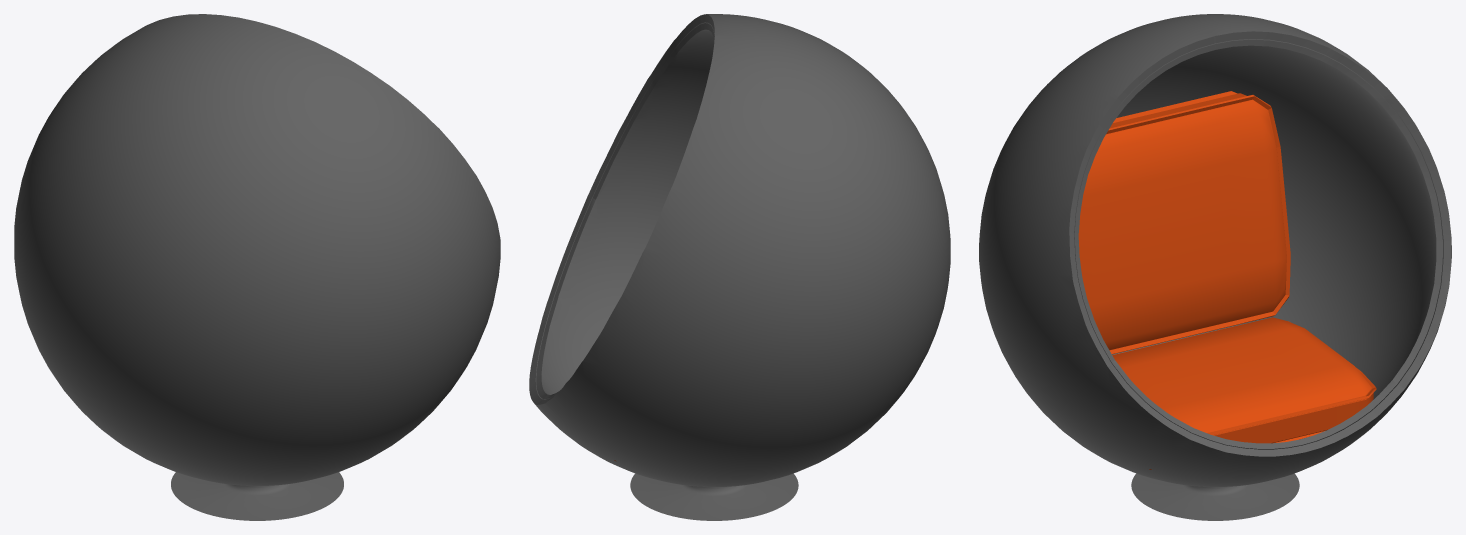
File: Silla2.obj
3 views of the same model, side by side, from view 1: azimuth 30°, elevation 25°; view 2: azimuth 150°, elevation 25°; view 3: azimuth 270°, elevation 25° (orthographic). The views are drawn at different scales.
Visible parts, largest first — view 1: bottom_cushion_Mesh.441_Material_#25; view 2: bottom_cushion_Mesh.441_Material_#25, bottom_cushion_Mesh.441_Material_#29; view 3: bottom_cushion_Mesh.441_Fabric_Blue, bottom_cushion_Mesh.441_Material_#25, bottom_cushion_Mesh.441_Material_#29.
Boxes of the visible parts, bbox=[...] form: bottom_cushion_Mesh.441_Material_#25: bbox=[14, 14, 500, 520]; bottom_cushion_Mesh.441_Material_#25: bbox=[529, 14, 950, 520]; bottom_cushion_Mesh.441_Material_#29: bbox=[536, 23, 714, 399]; bottom_cushion_Mesh.441_Fabric_Blue: bbox=[1078, 91, 1376, 469]; bottom_cushion_Mesh.441_Material_#25: bbox=[979, 14, 1451, 520]; bottom_cushion_Mesh.441_Material_#29: bbox=[1074, 39, 1442, 449].
Size of the model in its own units: 1.66 by 1.83 by 1.75.
